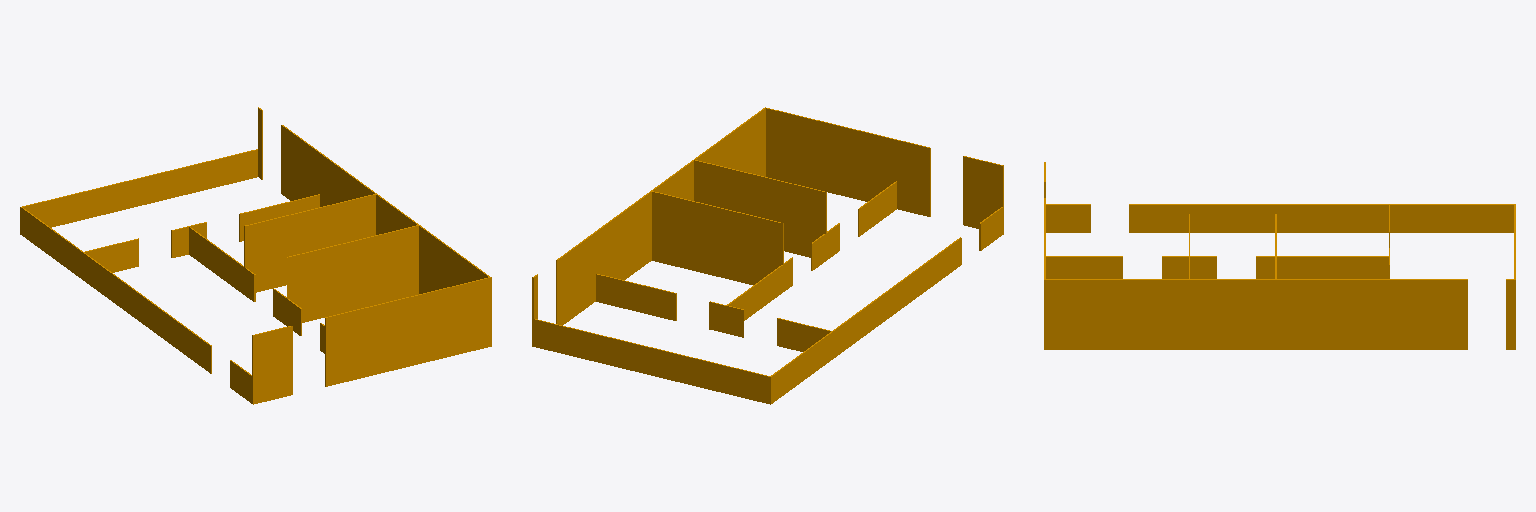
robot.urdf — wall:
<robot name="wall">
  <link name="wall">

    <inertial>
      <mass value="1.0" />
      <!-- center of mass (com) is defined w.r.t. link local coordinate system -->
      <origin xyz="0 0 0" />
      <inertia  ixx="0.0" ixy="0.0"  ixz="0.0"  iyy="0.0"  iyz="0.0"  izz="0.0" />
    </inertial>
    
    <visual>
      <!-- visual origin is defined w.r.t. link local coordinate system -->
      <origin xyz="0 0 0" rpy="0 0 0" />
      <geometry>
        <mesh filename="package://robocup_worlds/Media/models/wall.stl" scale="1 1 1"/>
      </geometry>
    </visual>

    <collision>
      <!-- collision origin is defined w.r.t. link local coordinate system -->
      <origin xyz="0 0 0" rpy="0 0 0" />
      <geometry>
        <mesh filename="package://robocup_worlds/Media/models/wall.stl" scale="1 1 1"/>
      </geometry>
    </collision>

  </link>

  <gazebo reference="wall">
    <material>Gazebo/PaintedWall</material>
    <turnGravityOff>true</turnGravityOff>
  </gazebo>

  <gazebo>
    <static>true</static>
  </gazebo>

</robot>

--- What the picture shows (computed from the rendered views, not written in the file) ---
3 views of the same robot in one strip: view 1: azimuth 30°, elevation 25°; view 2: azimuth 150°, elevation 25°; view 3: azimuth 270°, elevation 25° (orthographic).
Model wall with 1 links and 0 joints (none), rooted at wall, posed all joints at 0.
Visible links, largest first — view 1: wall; view 2: wall; view 3: wall.
Link boxes in pixels (<box>): wall: <box>20,107,491,404</box>; wall: <box>532,107,1003,404</box>; wall: <box>1044,162,1515,349</box>.
Size in the robot's own frame: 7.22 by 12.2 by 2 metres.
1 mesh visuals loaded from 1 distinct referenced files (1 binary STL).